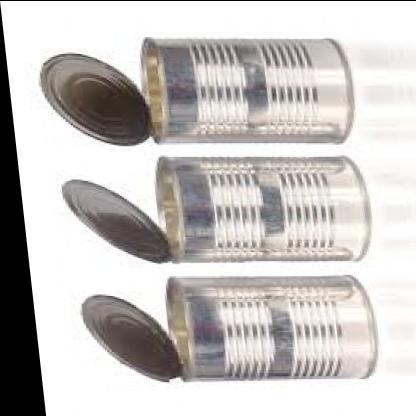trash: (63, 157, 369, 261), (82, 276, 376, 379), (142, 38, 353, 142)
